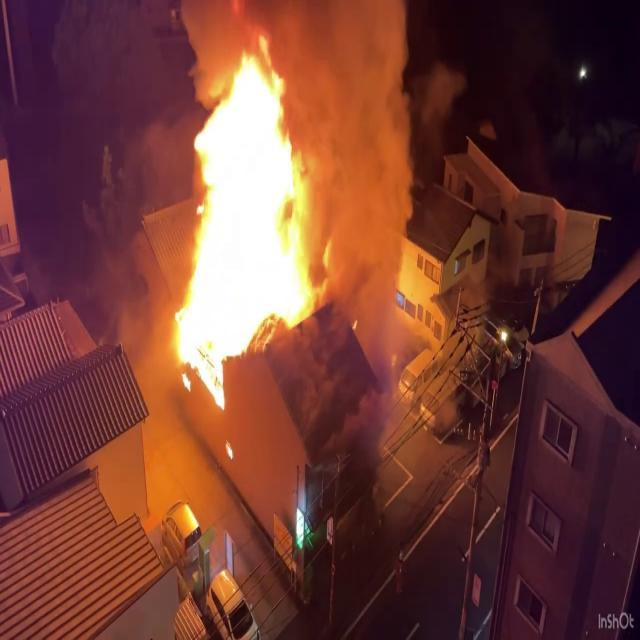Fire: (164, 39, 326, 387)
Smoke: (288, 1, 429, 280)
